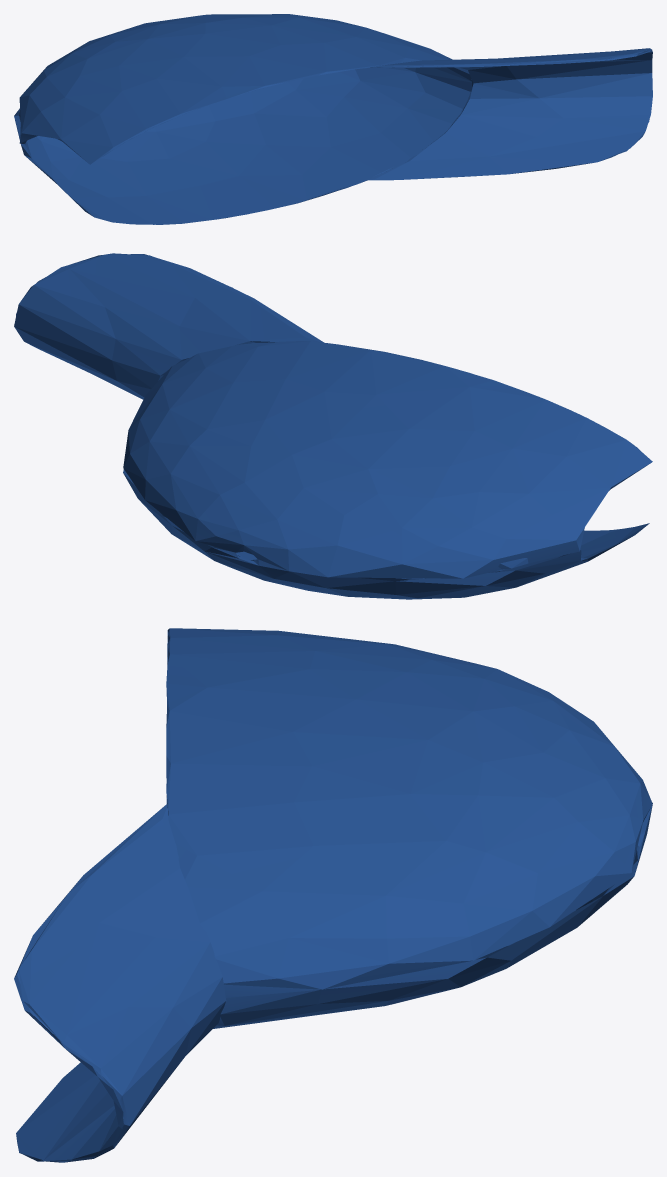
File: Hand_asset_Cap.fbx
3 renders of one model, top to bottom at view 1: azimuth 30°, elevation 25°; view 2: azimuth 150°, elevation 25°; view 3: azimuth 270°, elevation 25°, orthographic. The views are drawn at different scales.
Parts seen in each view (by area): view 1: SportsCap; view 2: SportsCap; view 3: SportsCap.
Part boxes in pixels (x1,y1,x2,y2): SportsCap: [14, 14, 652, 224]; SportsCap: [14, 253, 652, 599]; SportsCap: [14, 628, 652, 1162].
Bounding box in the file's own units: 60.33 × 13.07 × 36.17.
